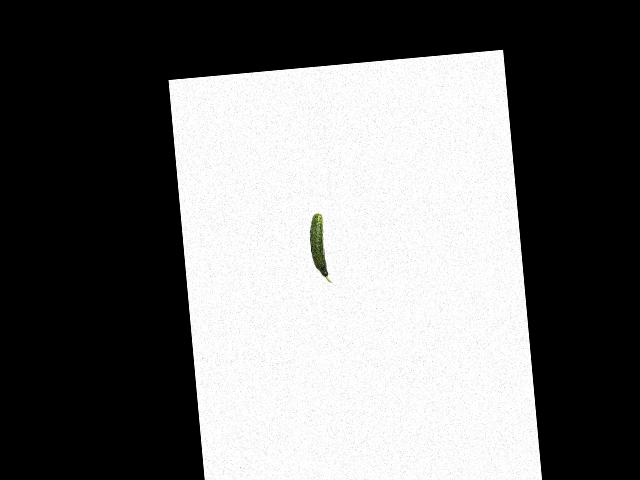cucumber: (308, 213, 332, 285)
